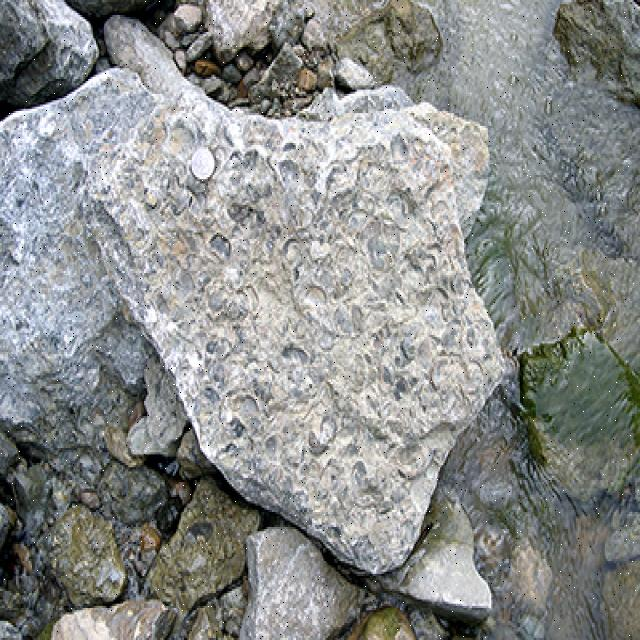Sedimentary: (2, 75, 494, 570)
